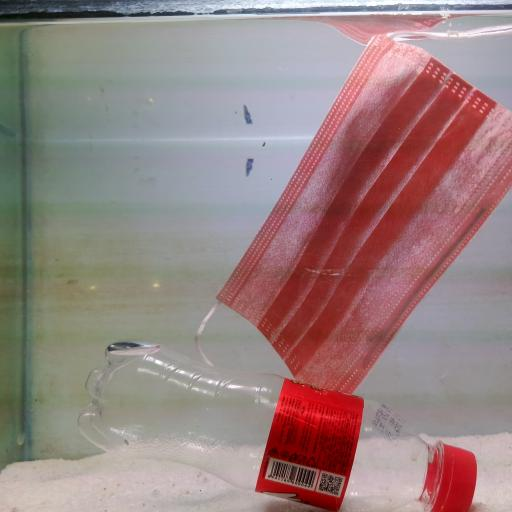bottle_cap: (435, 437, 479, 512)
mask: (194, 37, 512, 389)
plastic_bottle: (80, 332, 482, 512)
